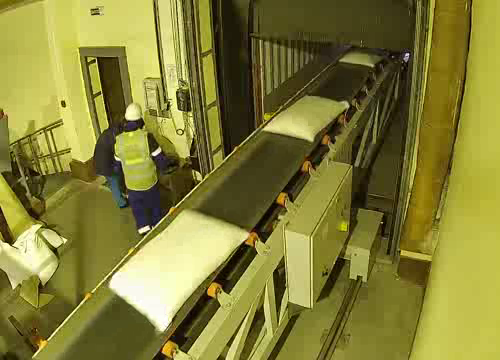bag: (96, 201, 260, 339), (259, 89, 355, 148), (336, 44, 392, 70)
